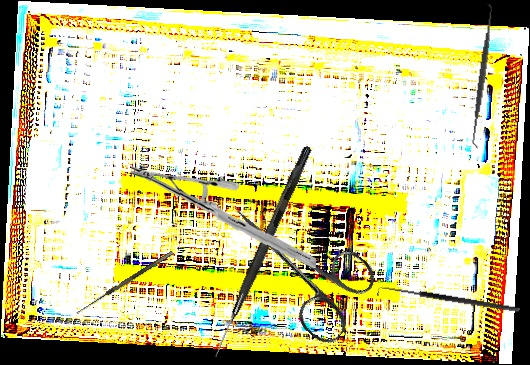Hook Surgical: (211, 143, 313, 361), (75, 250, 177, 320), (376, 283, 521, 320)
Iris Scissors: (203, 178, 386, 349)
Needle Holder: (131, 158, 316, 275)
Spatula Surgical: (464, 3, 501, 149)
